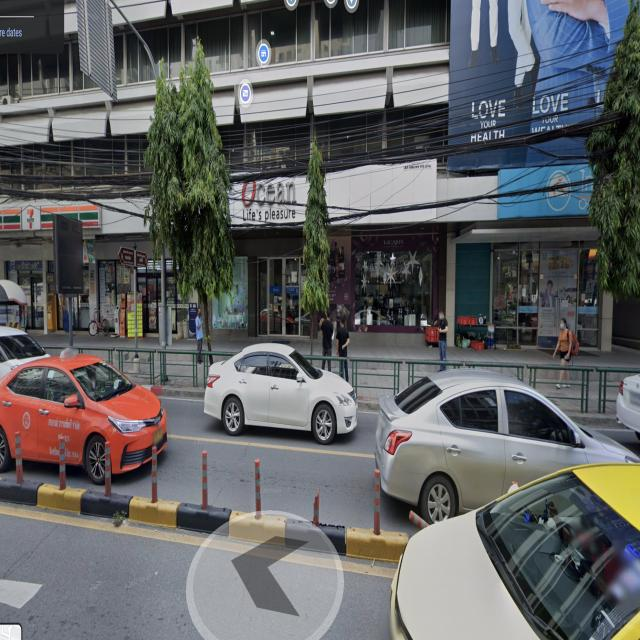tree: (149, 59, 231, 359), (595, 18, 639, 298), (301, 139, 328, 357)
